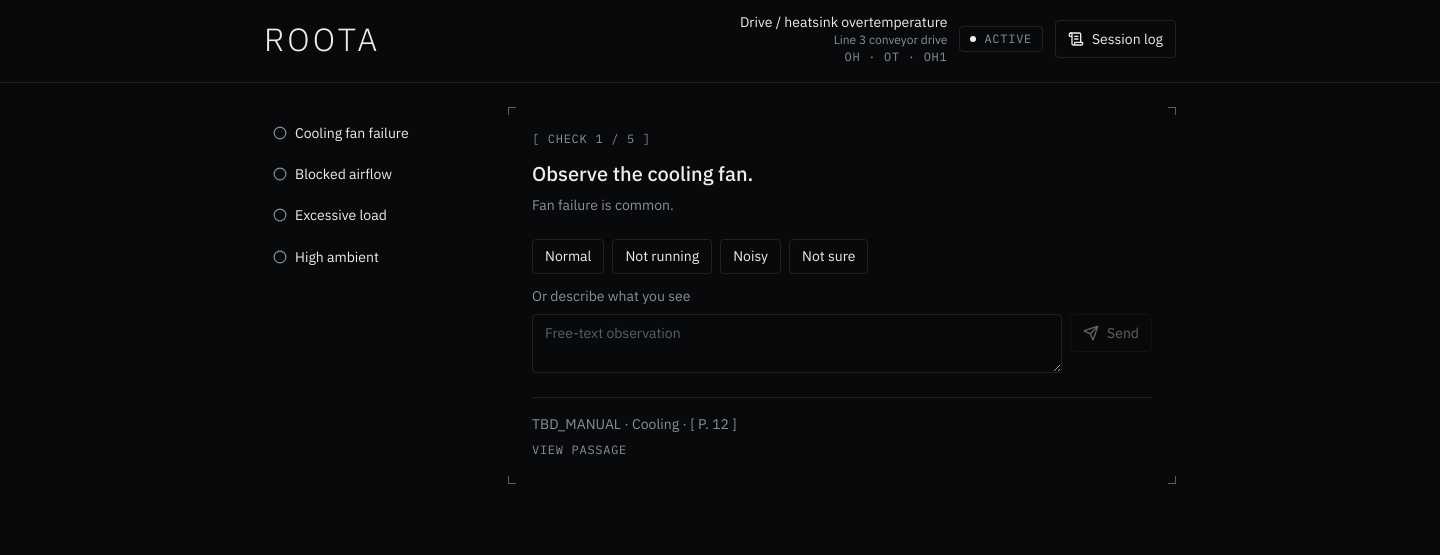
it: SessionScreen › shows API errors without clearing the text box
Type "Fan stopped" into the text box labelled "Or describe what you see" at point(797, 343), box x1=532 y1=314 x2=1062 y2=373
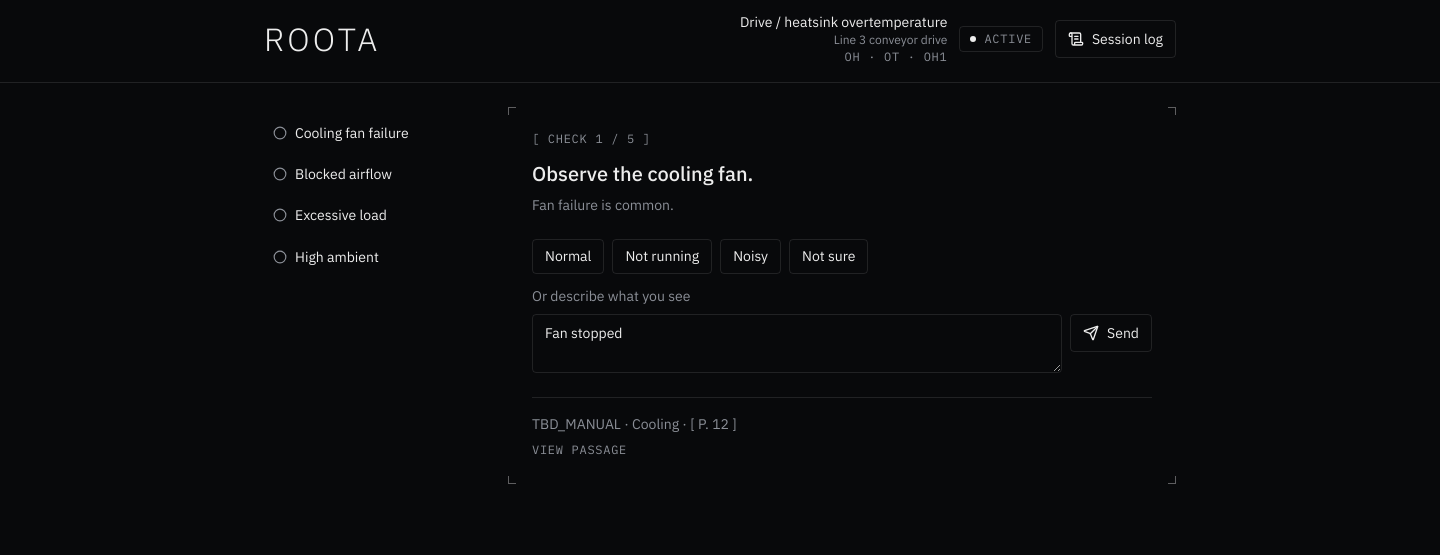
Click the button with aria-label "Submit observation" at point(1111, 333), box x1=1070 y1=314 x2=1152 y2=352
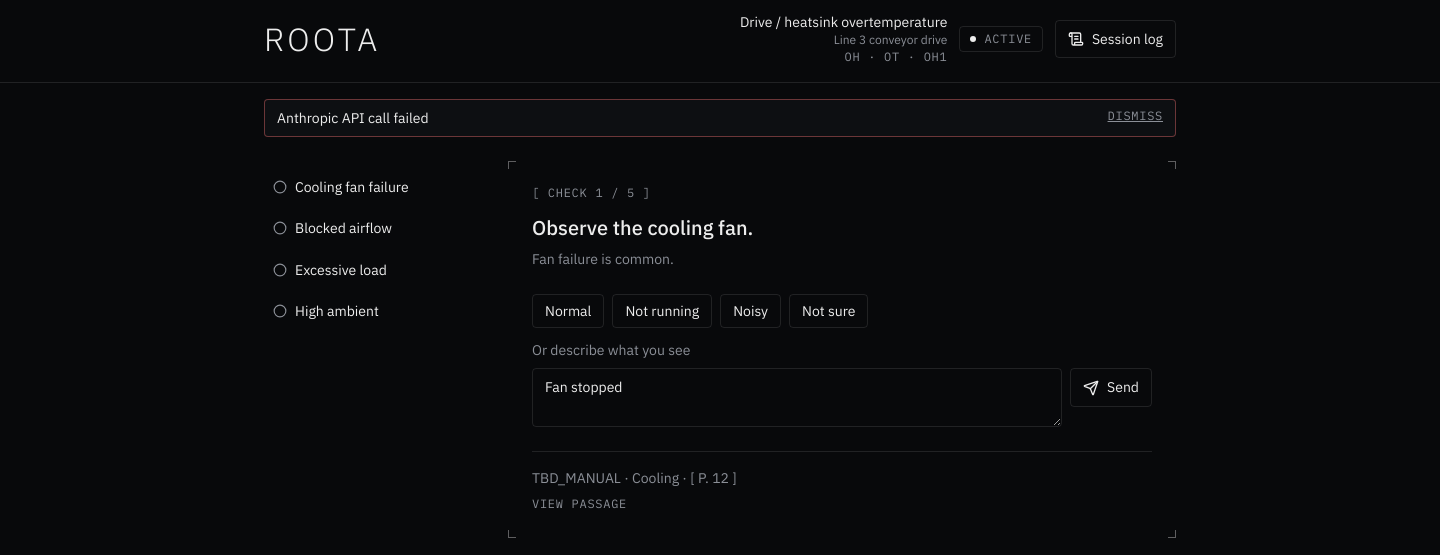
expect the text "Anthropic API call failed" is shown: met, box x1=277 y1=109 x2=428 y2=127
